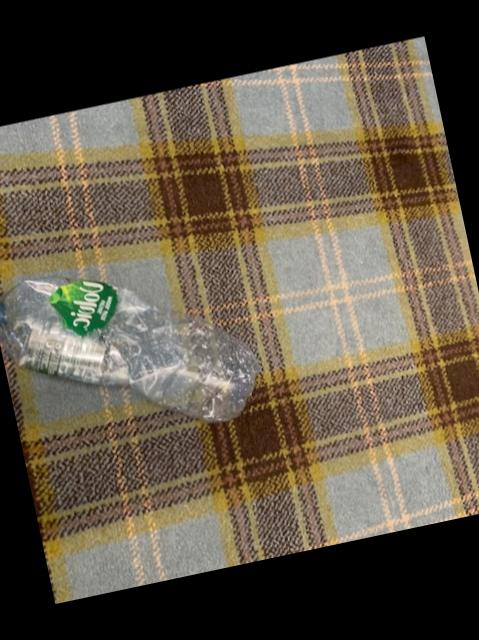plastic: (0, 279, 255, 421)
